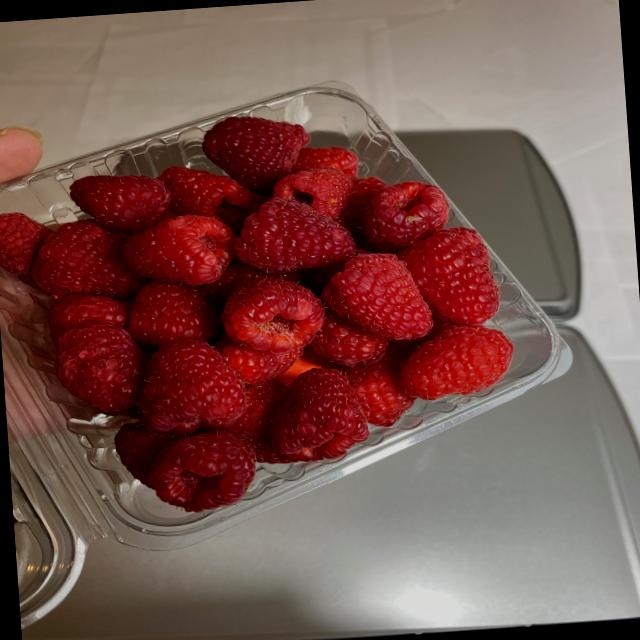raspberries: (12, 152, 502, 462)
